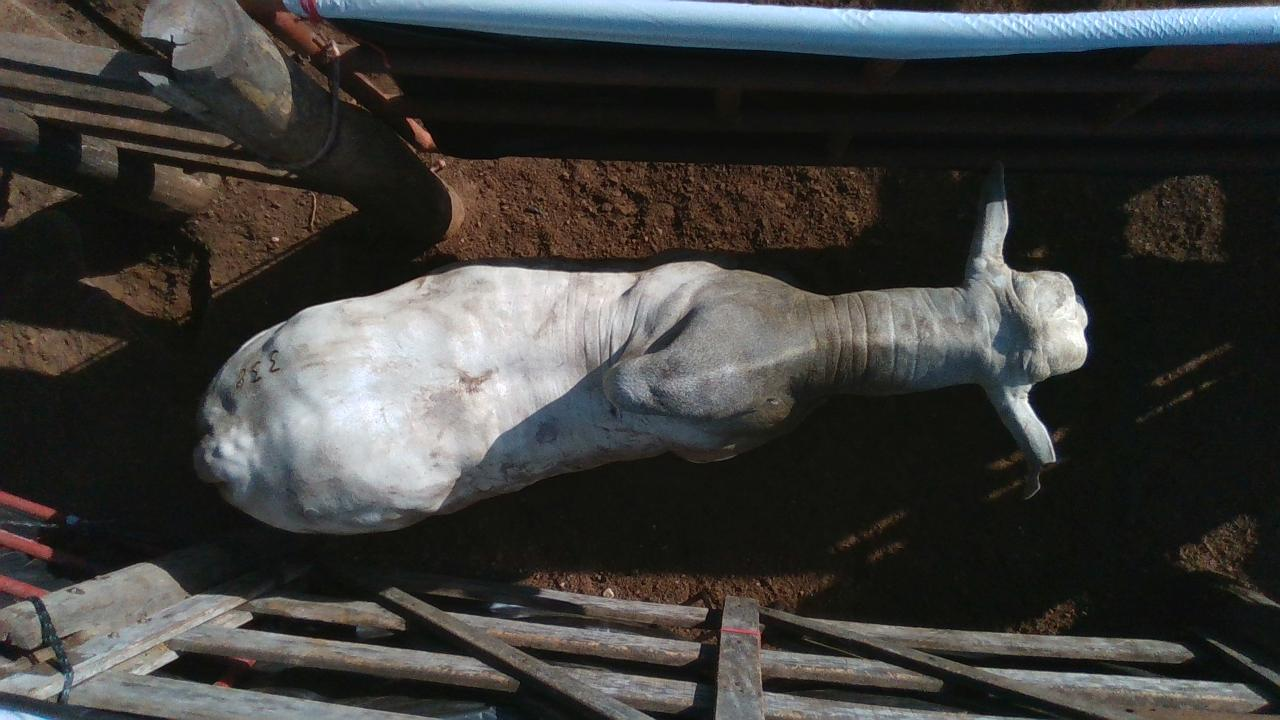cattle: (191, 159, 1090, 537)
